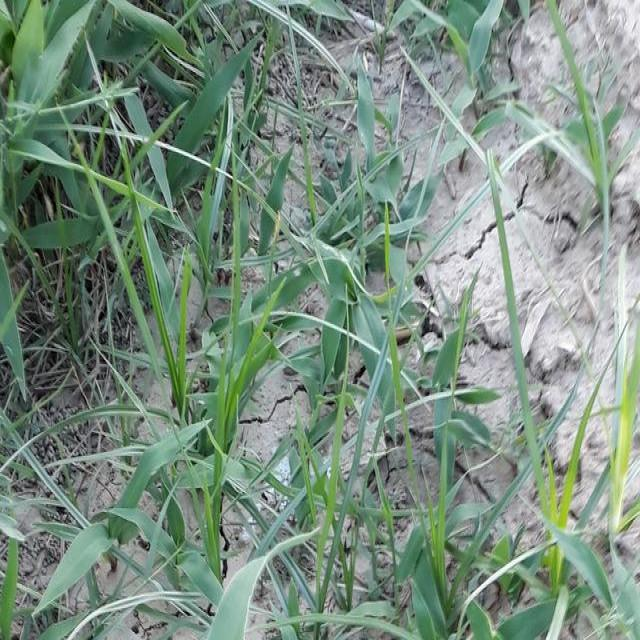weed: (270, 199, 548, 640), (0, 0, 222, 340), (63, 308, 264, 640), (550, 0, 639, 210), (0, 390, 85, 541), (416, 0, 520, 122), (322, 65, 398, 219)
